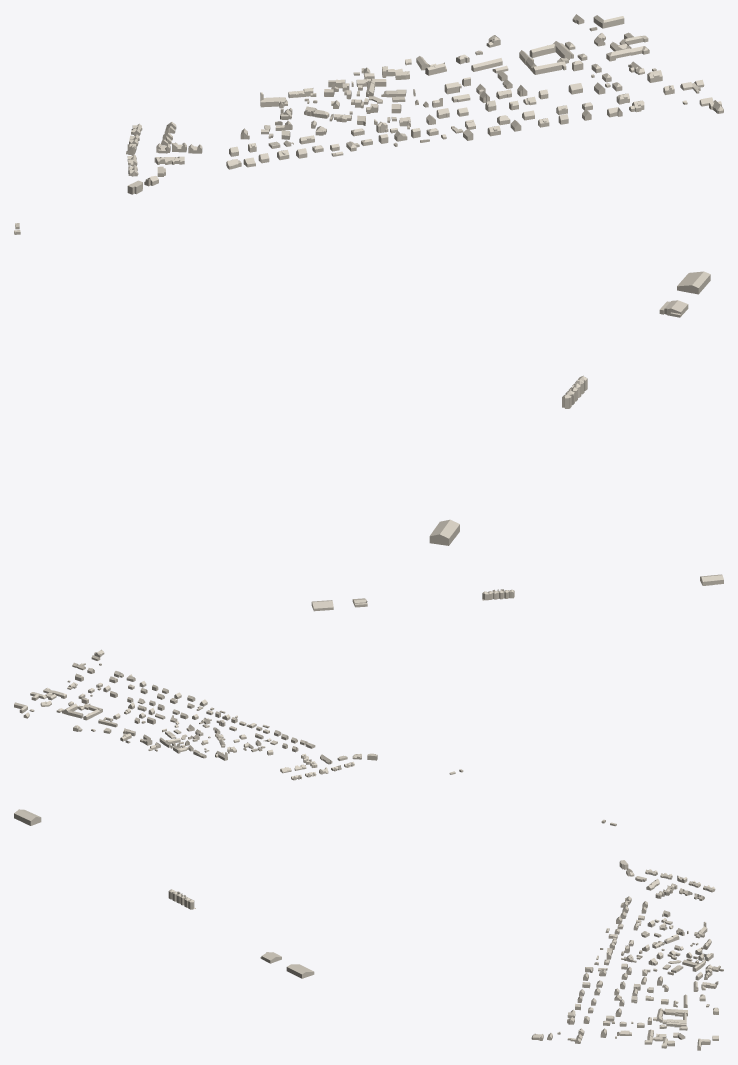
The picture shows the model from 3 angles, top to bottom: view 1: azimuth 30°, elevation 25°; view 2: azimuth 150°, elevation 25°; view 3: azimuth 270°, elevation 25°; orthographic projection. The views are drawn at different scales.
Size of the model in its own units: 918 by 31.65 by 1203.
